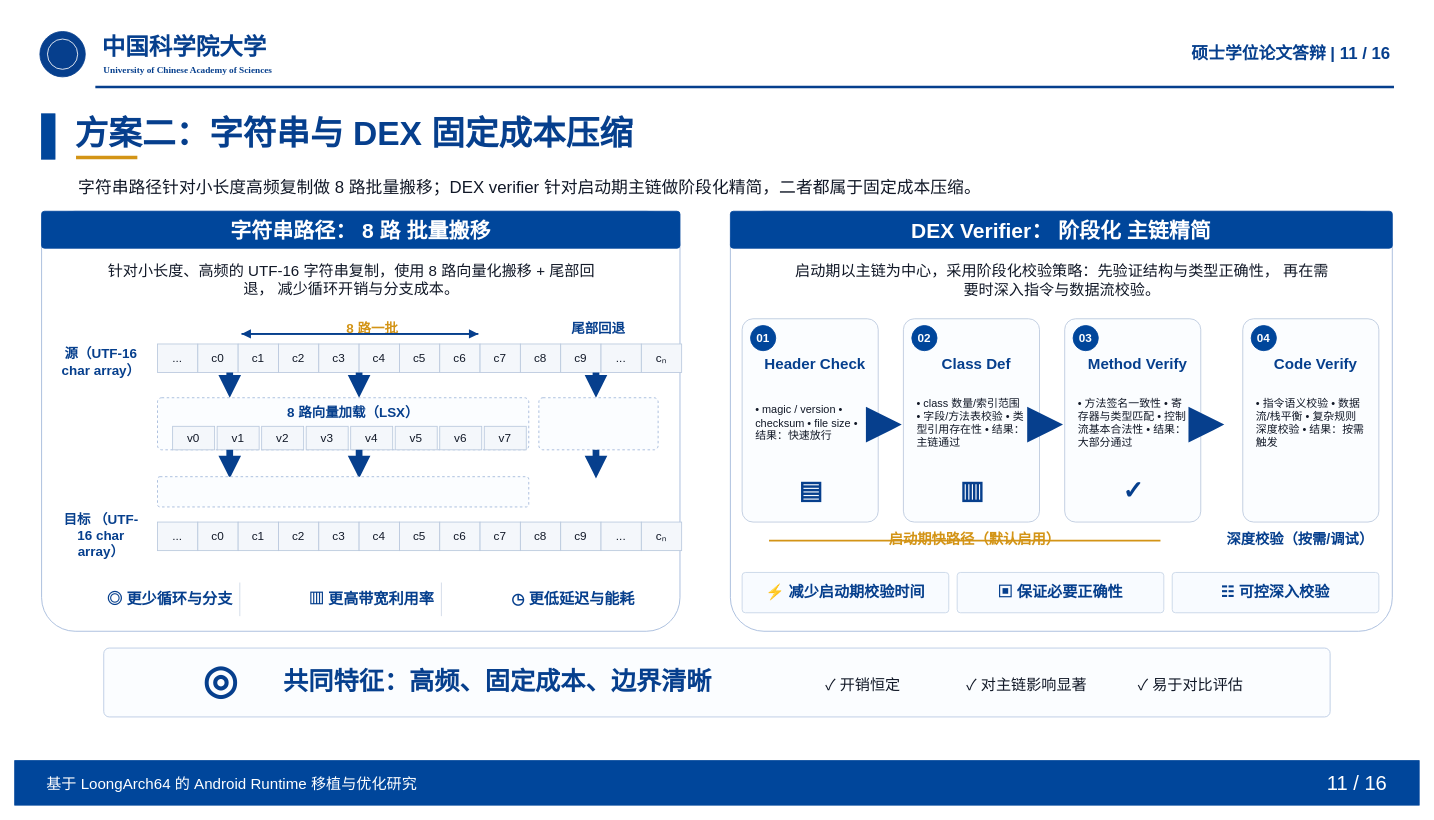
Image size: 1434x820. Some labels were removed from this diagram. Each missing label, with the centre of its shape:
8 路向量存储（LSX）: the point at 343,491
UCAS: the point at 62,53
标量处理: the point at 598,423
